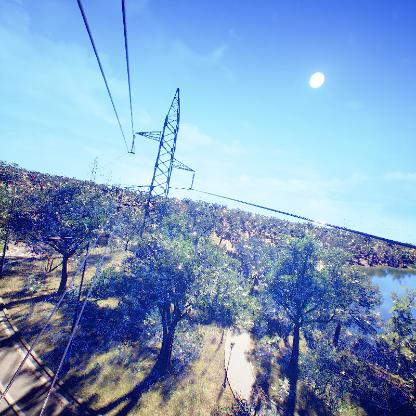tower: (127, 87, 200, 295)
